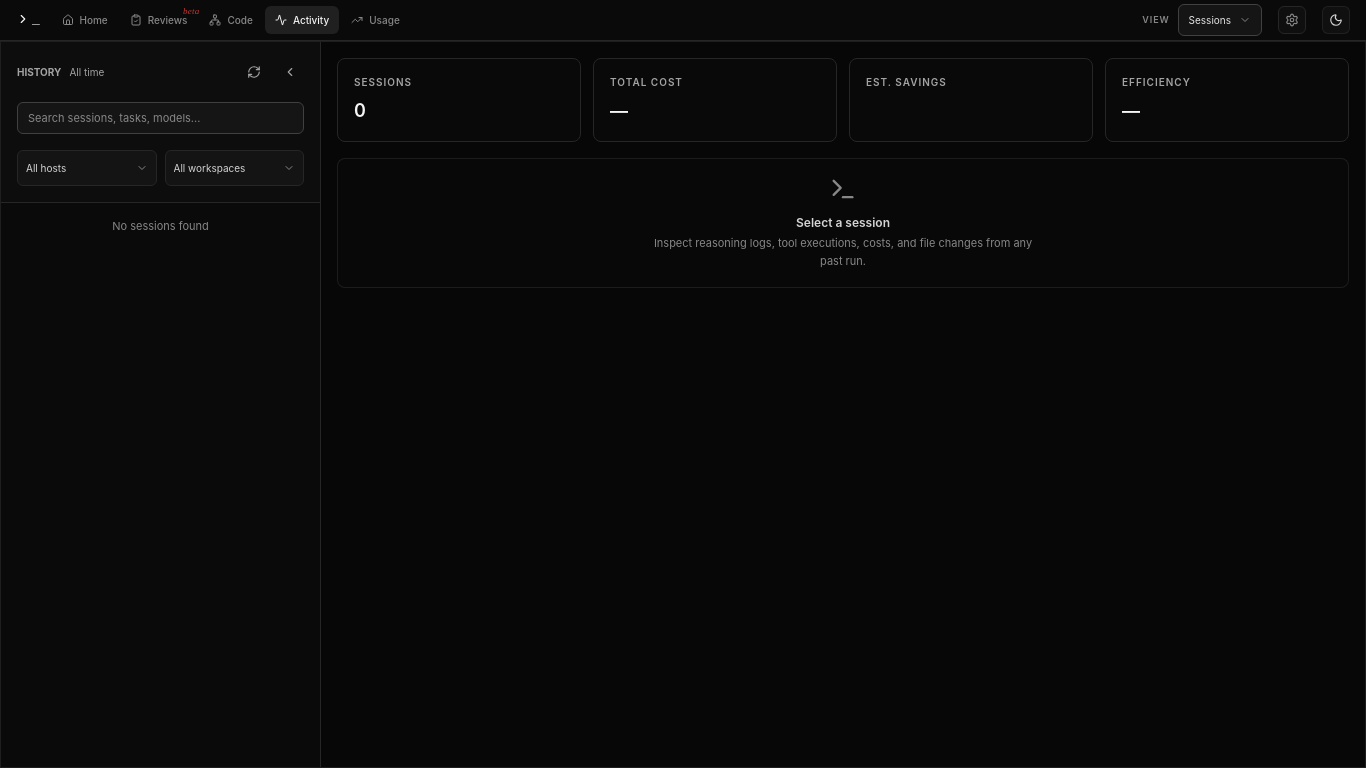
Test case: App router smoke test › folds swarm execution into Activity as an activity-type view
This screenshot has width=1366, height=768.
Expected: the header named "Activity view" is shown, [0,0,1365,41]
Click the dropdown named "Activity view" at {"x": 1220, "y": 20}, box [1178,4,1262,36]
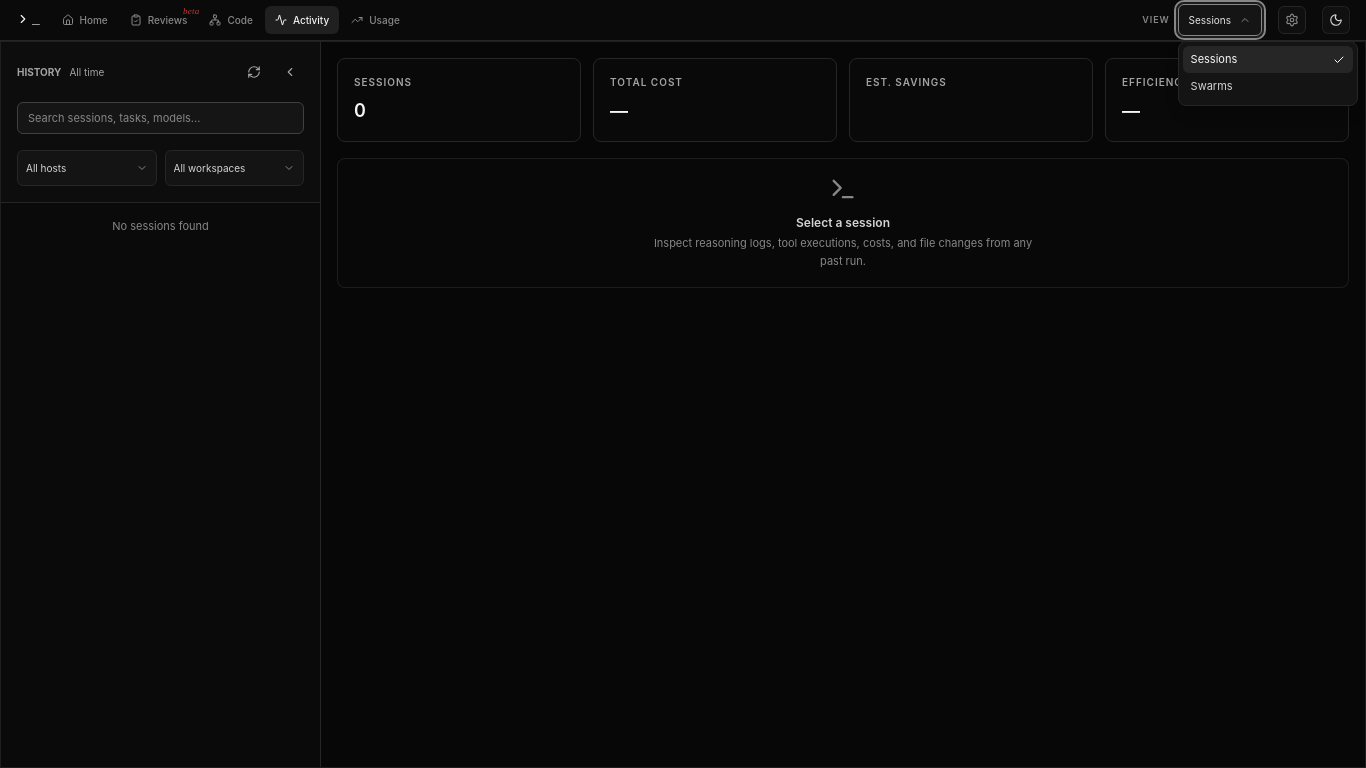
Expected: the option "Swarms" is shown, [1183,73,1353,101]
